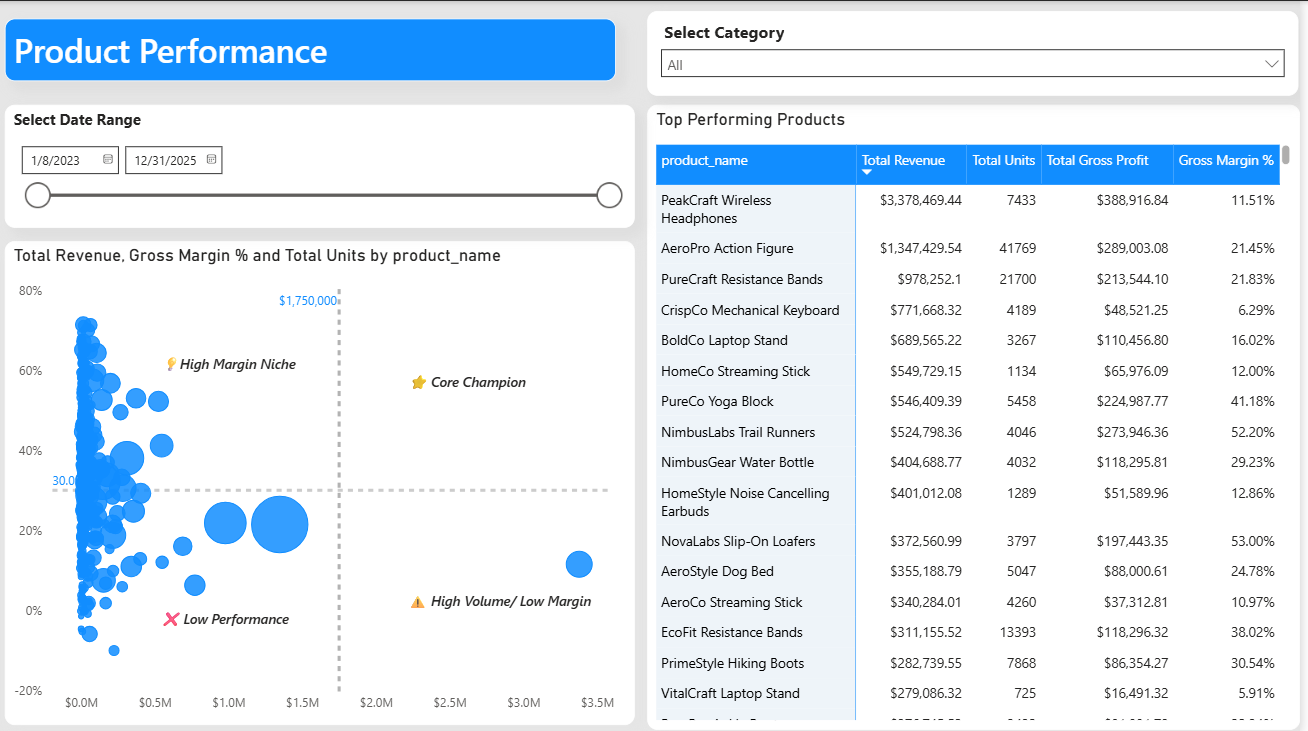

What the dashboard file says about the page in this screenshot:
{"tool":"powerbi","page":{"name":"Product Performance","canvas":[1280,720],"ordinal":3},"visuals":[{"type":"scatterChart","fields":{"Category":["fct_sales_flat.product_name"],"X":["_Measures (2).Total Revenue"],"Y":["_Measures (2).Gross Margin %"],"Size":["_Measures (2).Total Units"]},"box":[8.7,235.1,618.2,475.2],"z":0},{"type":"textbox","box":[400.6,359.5,197.8,34.8],"z":1000},{"type":"textbox","box":[400.6,574.7,197.8,34.8],"z":2000},{"type":"textbox","box":[156.7,342.1,167.9,34.8],"z":3000},{"type":"textbox","box":[156.7,592.1,167.9,34.8],"z":4000},{"type":"pivotTable","title":"Top Performing Products","fields":{"Values":["_Measures (2).Total Revenue","_Measures (2).Total Units","_Measures (2).Total Gross Profit","_Measures (2).Gross Margin %"],"Rows":["fct_sales_flat.product_name"]},"box":[639.4,102,640.6,613.3],"z":5000},{"type":"slicer","title":"Select Date Range","fields":{"Values":["DimDate.Date"]},"box":[8.7,102,618.2,120.7],"z":6000},{"type":"slicer","title":"Select Category","fields":{"Values":["fct_sales_flat.category_name"]},"box":[639.4,10,639.4,83.3],"z":6001},{"type":"textbox","box":[8.6,17.2,600,61.4],"z":6002}]}

Visuals, with their boxes in screenshot pixels (x1, y1, x2, y2), scaled from the page's 1280x720 canvas onto the 1308x731 screenshot:
scatterChart - fct_sales_flat.product_name x _Measures (2).Total Revenue: box=[9, 239, 641, 721]
textbox: box=[409, 365, 611, 400]
textbox: box=[409, 583, 611, 619]
textbox: box=[160, 347, 332, 383]
textbox: box=[160, 601, 332, 636]
"Top Performing Products" pivotTable: box=[653, 104, 1307, 726]
"Select Date Range" slicer: box=[9, 104, 641, 226]
"Select Category" slicer: box=[653, 10, 1307, 95]
textbox: box=[9, 17, 622, 80]
